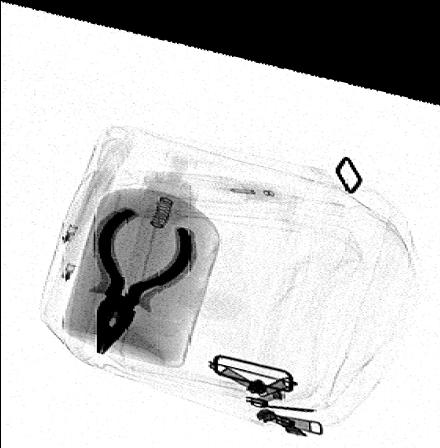Pliers: (93, 200, 195, 349)
